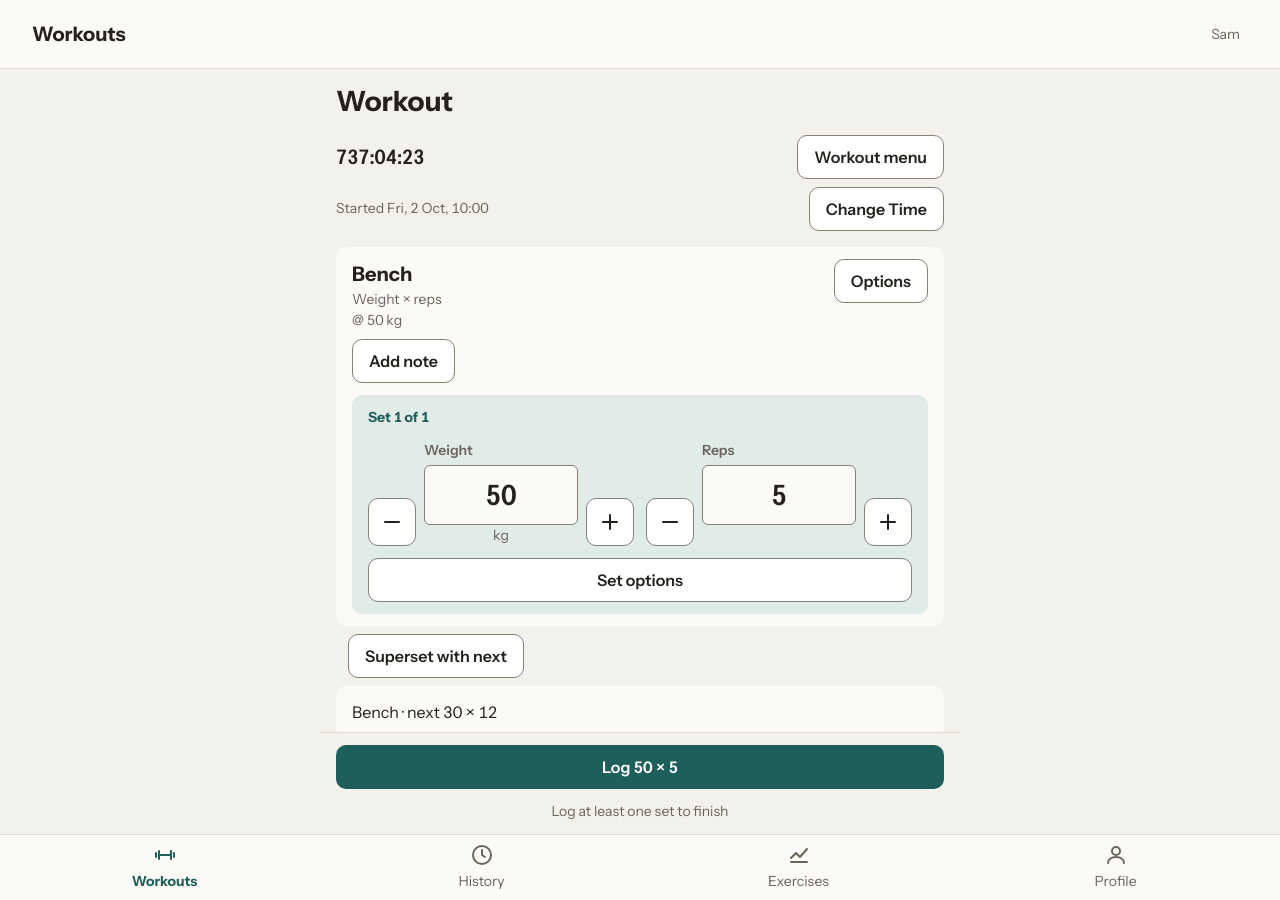
Test case: 10.2 AC28 — each card has its own plan and progress › one exercise listed twice yields two cards with their own plans
The width and height of the screenshot is (1280, 900).
Expected: the heading "Workout" is shown, [336, 84, 453, 118]
Expected: the number of elements "Bench" is 2, [336, 247, 944, 626]; [336, 686, 944, 738]
Click the button "Bench · next 30 × 12".
click(425, 712)  # box [352, 690, 928, 734]
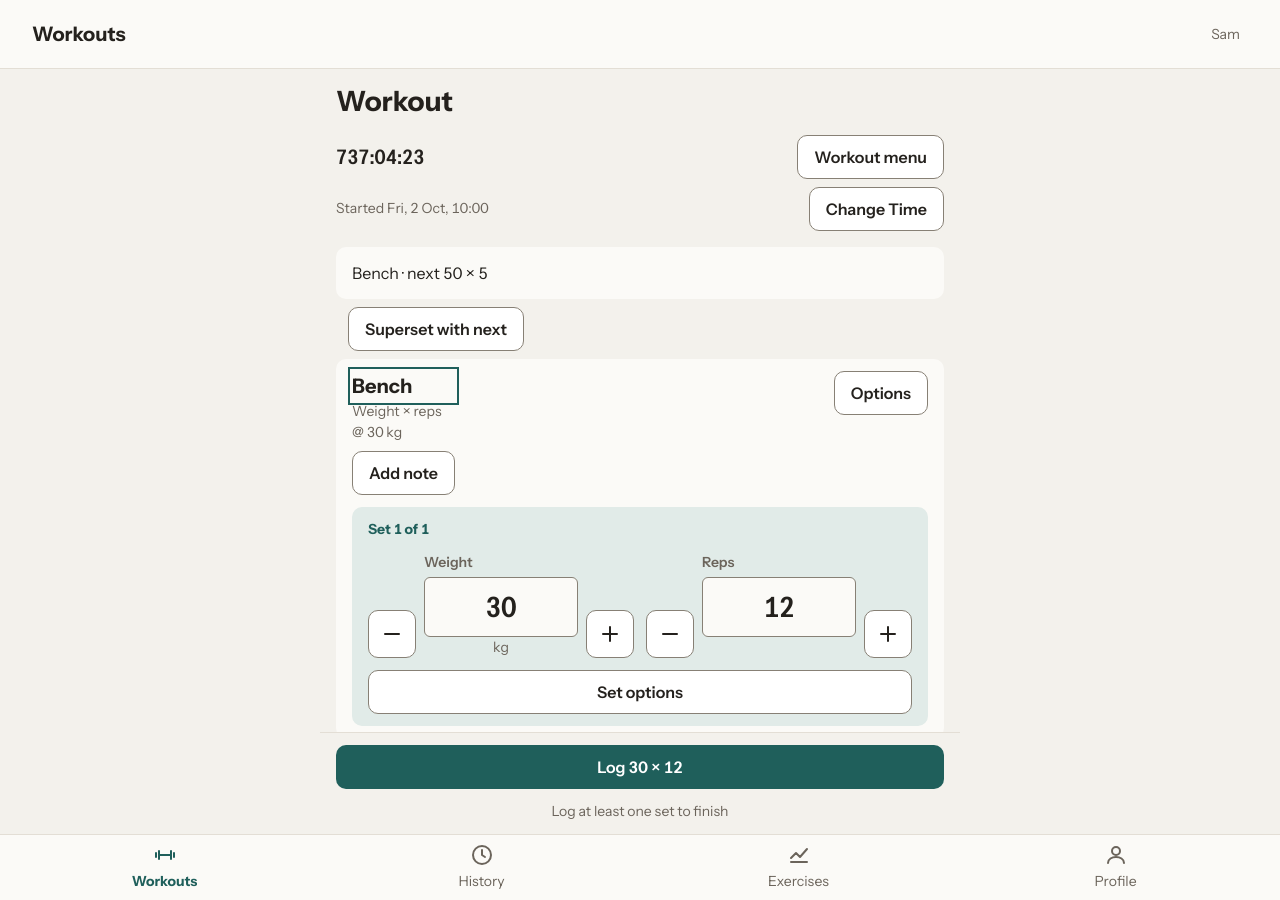
Now the field labelled "Weight" holds "30", box [424, 577, 578, 637]
